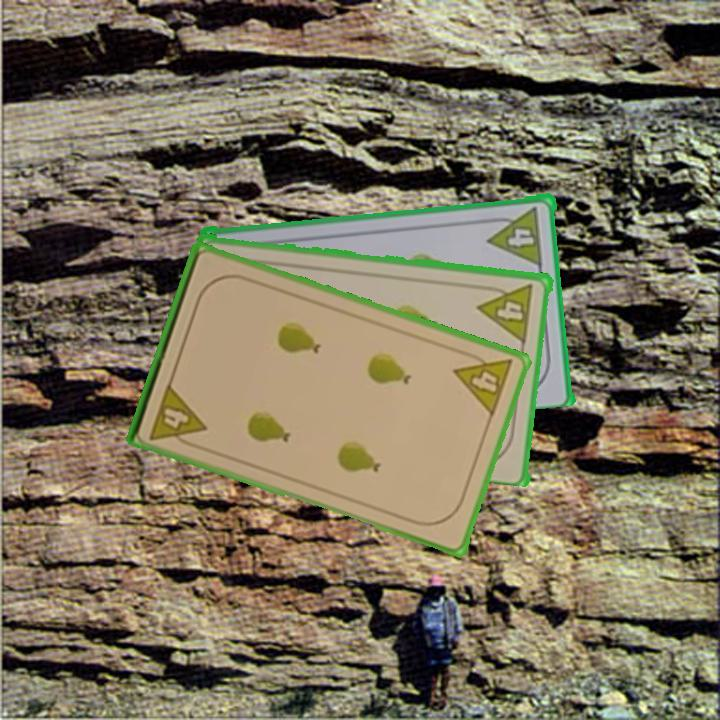4p: (450, 346, 515, 419), (146, 379, 209, 451), (476, 279, 537, 345), (487, 221, 541, 268)
